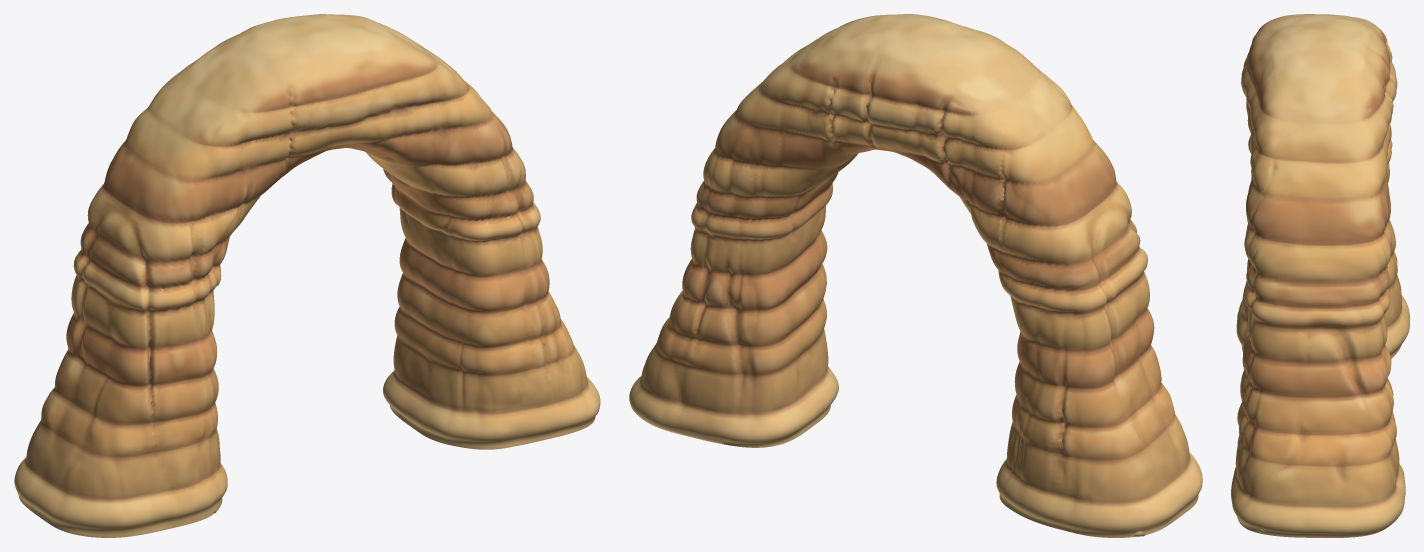
File: SD_B04_Rock_Arch.fbx
The picture shows the model from 3 angles, left to right: view 1: azimuth 30°, elevation 25°; view 2: azimuth 150°, elevation 25°; view 3: azimuth 270°, elevation 25°; orthographic projection. The views are drawn at different scales.
Parts seen in each view (by area): view 1: Arch_LOD0; view 2: Arch_LOD0; view 3: Arch_LOD0.
Part boxes in pixels (x1,y1,x2,y2): Arch_LOD0: (14,14,600,537); Arch_LOD0: (629,14,1202,537); Arch_LOD0: (1231,14,1409,537).
Size of what is drawn, in the model's own units: 16 by 12 by 5.
